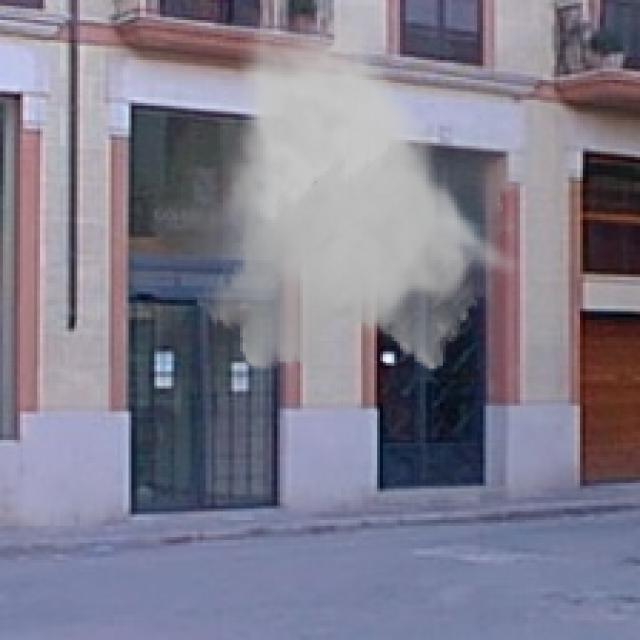smoke: (194, 9, 557, 380)
